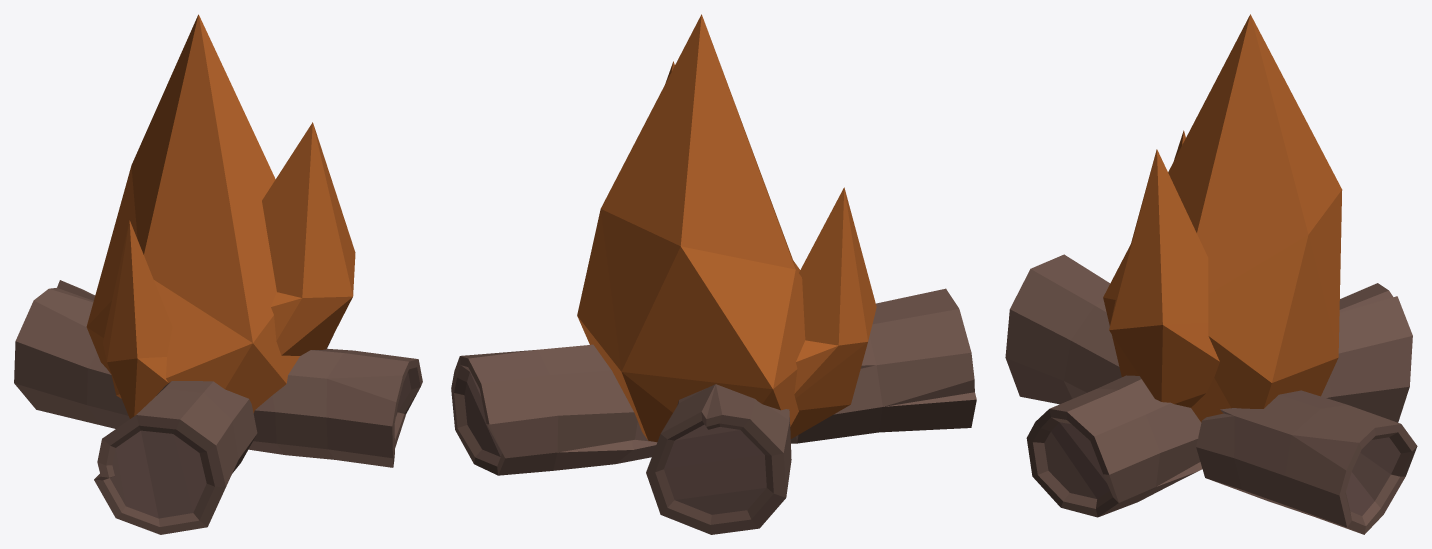
File: Bonfire_Fire.glb
3 renders of one model, left to right at view 1: azimuth 30°, elevation 25°; view 2: azimuth 150°, elevation 25°; view 3: azimuth 270°, elevation 25°, orthographic. The views are drawn at different scales.
Visible parts, largest first — view 1: Bonfire_Fire; view 2: Bonfire_Fire; view 3: Bonfire_Fire.
Boxes of the visible parts, x1,y1,x2,y2 form: Bonfire_Fire: (14, 14, 422, 534); Bonfire_Fire: (451, 14, 976, 534); Bonfire_Fire: (1005, 14, 1417, 534).
Size of the model in its own units: 2.18 by 2.36 by 1.98.
